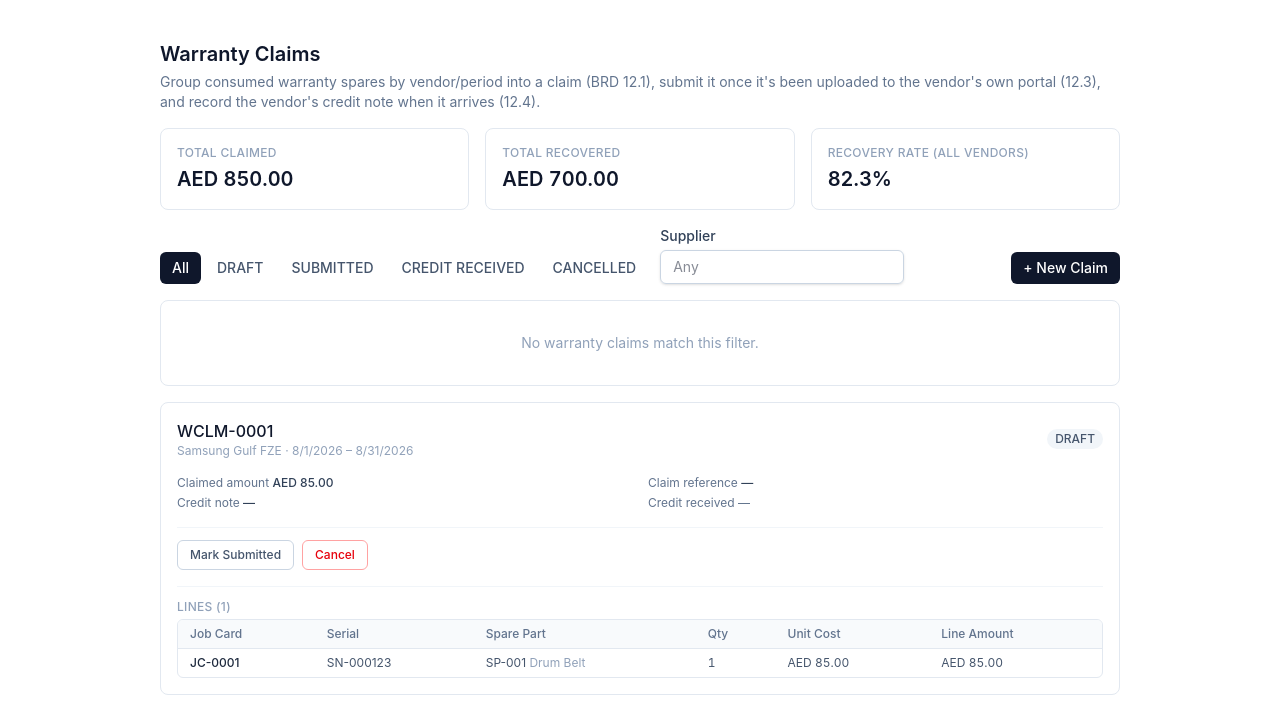
Scenario: WarrantyClaimsPage - submit action › disables the submit button until a reference number is entered
Check: the text "WCLM-0001" is shown, box [177,421,273,441]
Click the button "Mark Submitted": (236, 555) [177,540,294,570]
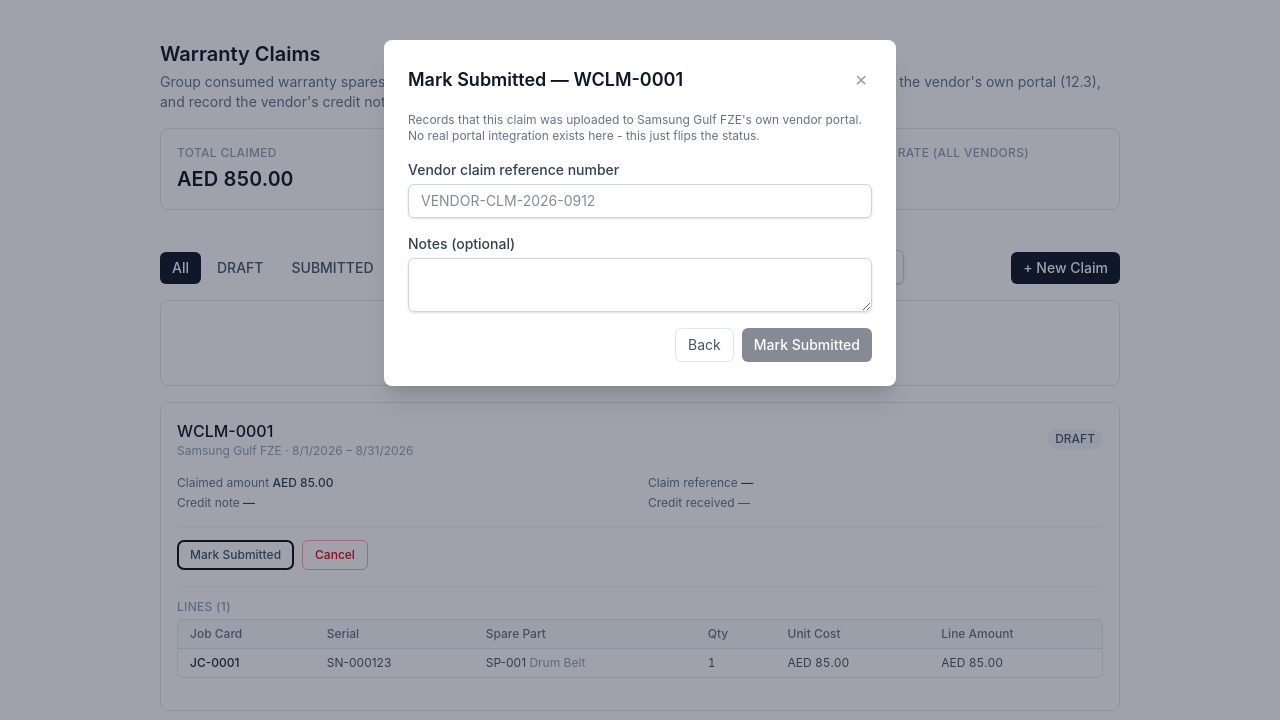
Check: the button "Mark Submitted" is disabled, box [742,328,872,362]
